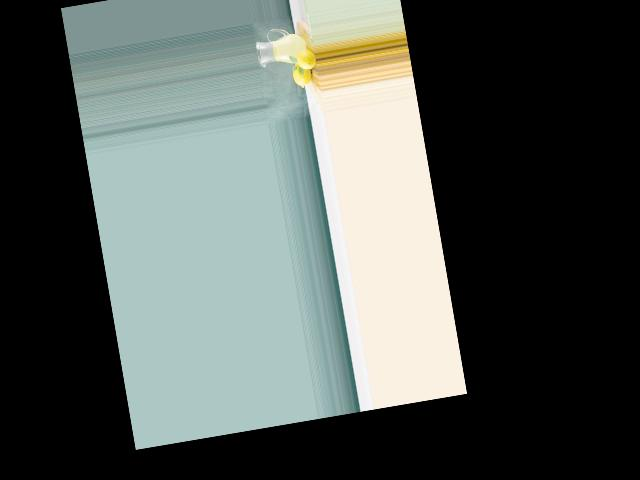lemon: (294, 47, 316, 74)
